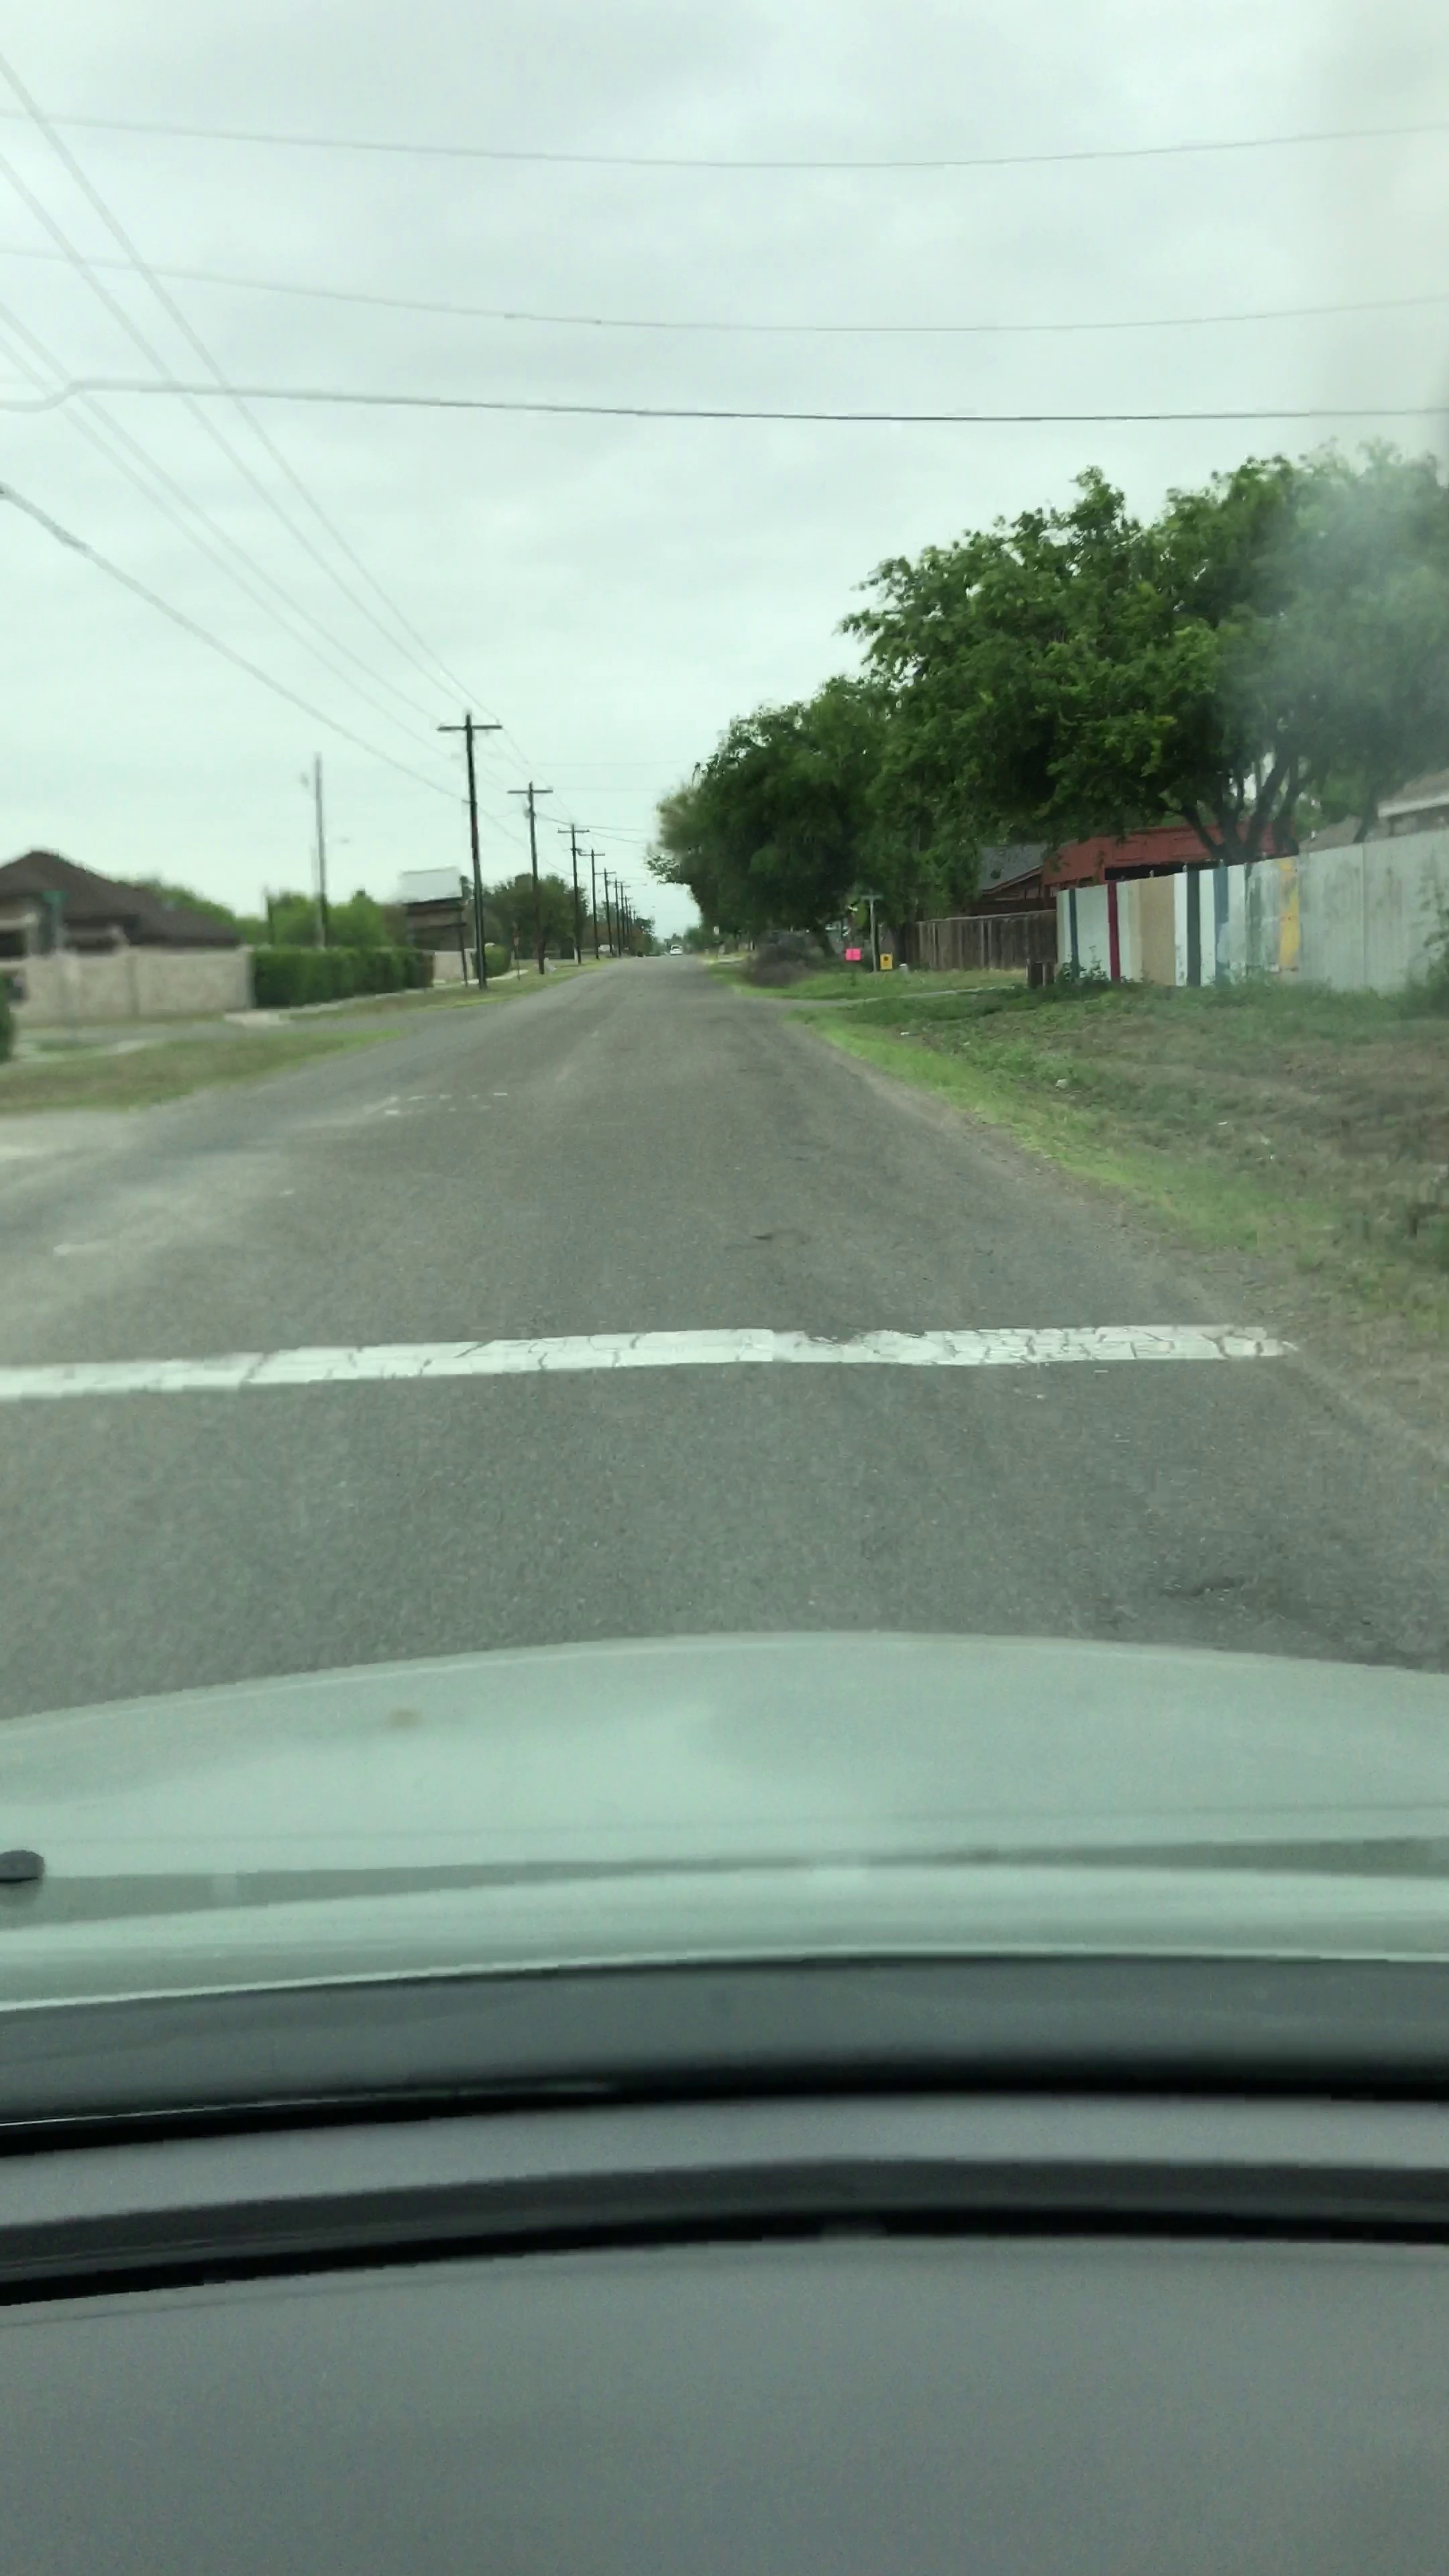blurredLine: (0, 1290, 1318, 1431)
